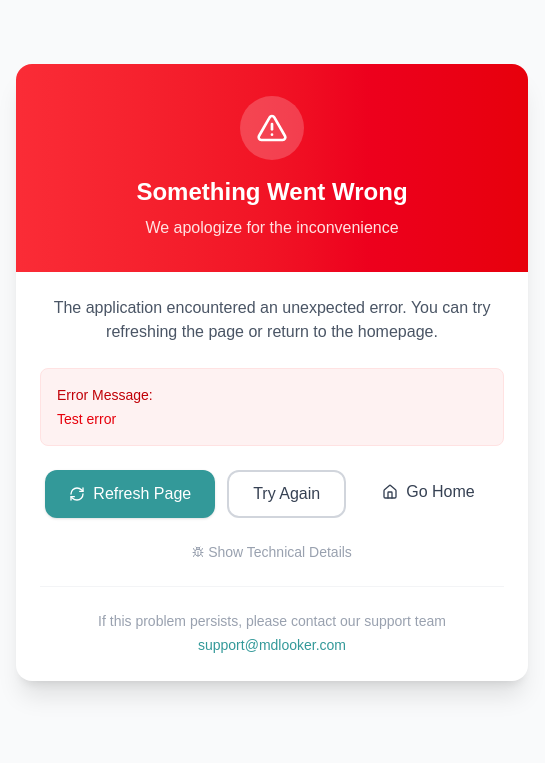
ErrorBoundary Component › should show technical details when toggled
What coordinates should you click on to do the following:
click the button "Show Technical Details"
I would click on:
 (272, 552)
Its box is [192, 542, 352, 562].
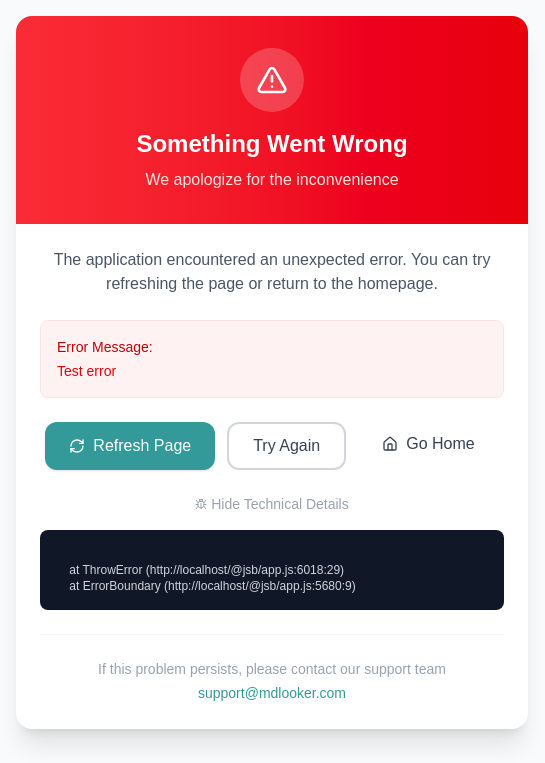
Check: the button "Hide Technical Details" is shown, box [195, 494, 349, 514]
